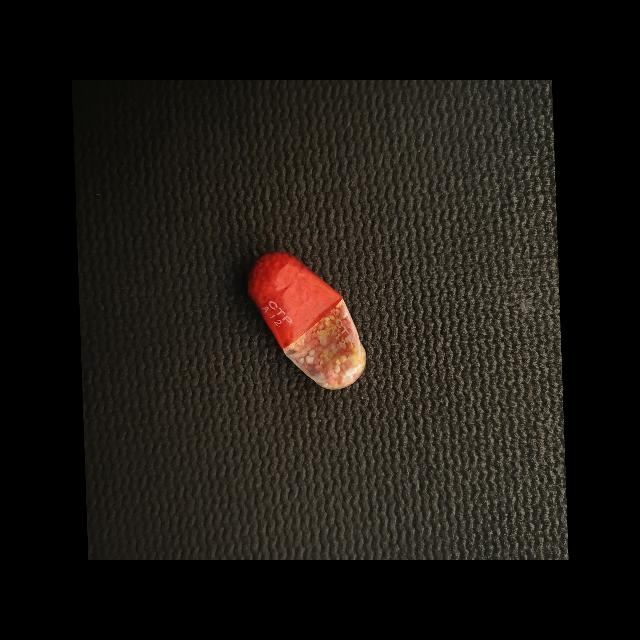Defective Capsule: (248, 252, 366, 390)
